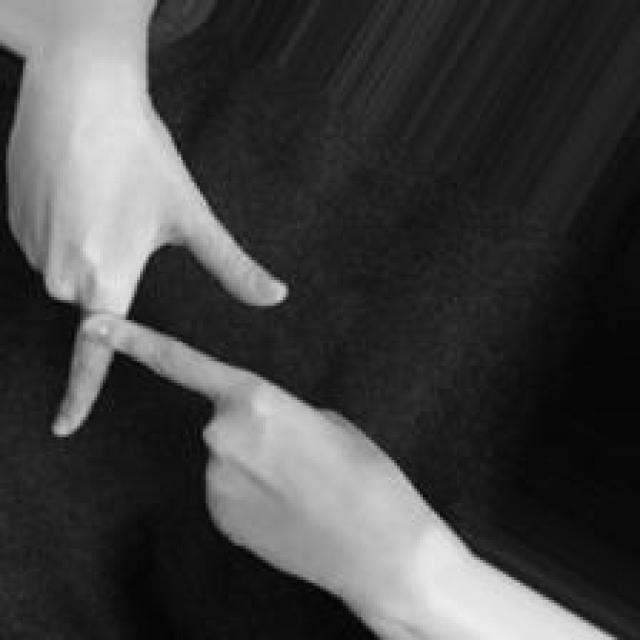F: (2, 115, 378, 604)
